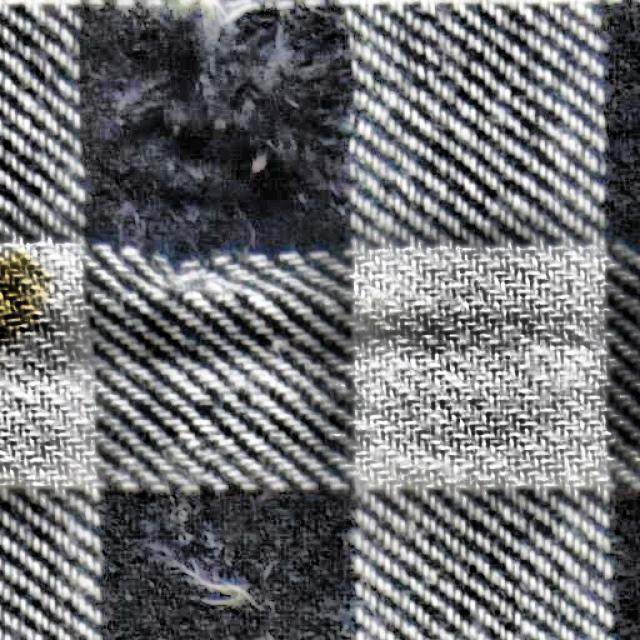cut: (113, 0, 396, 269), (125, 441, 373, 639)
